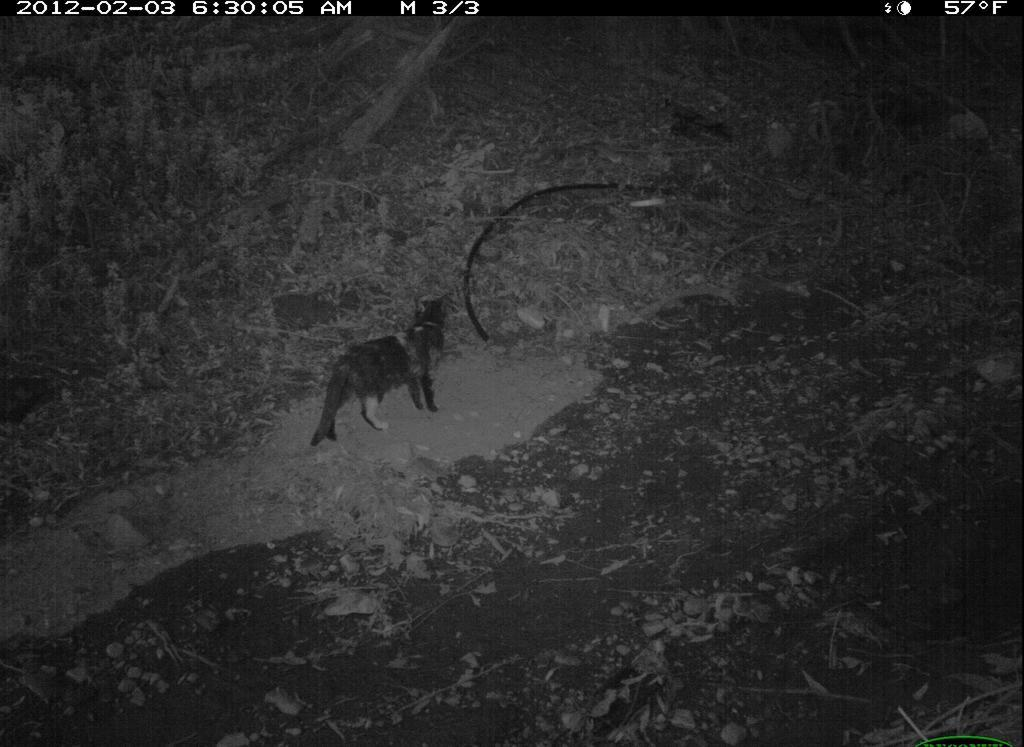cat: (301, 285, 464, 451)
